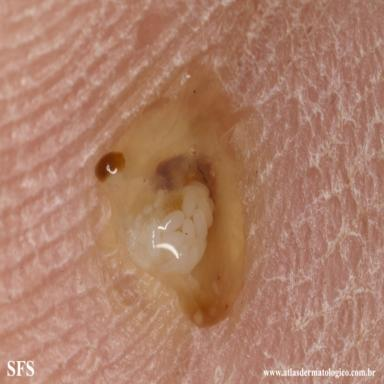Tungiasis: (95, 74, 245, 327)
